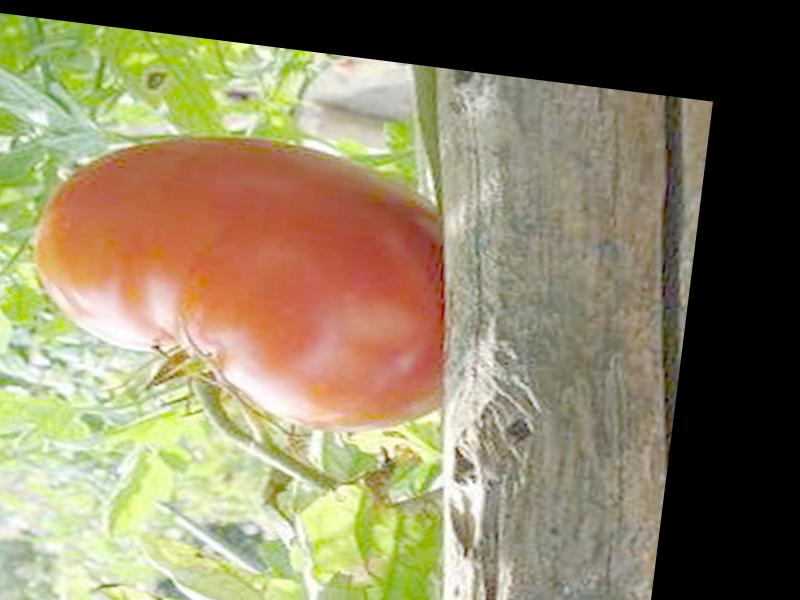Tomato: (15, 116, 477, 445)
